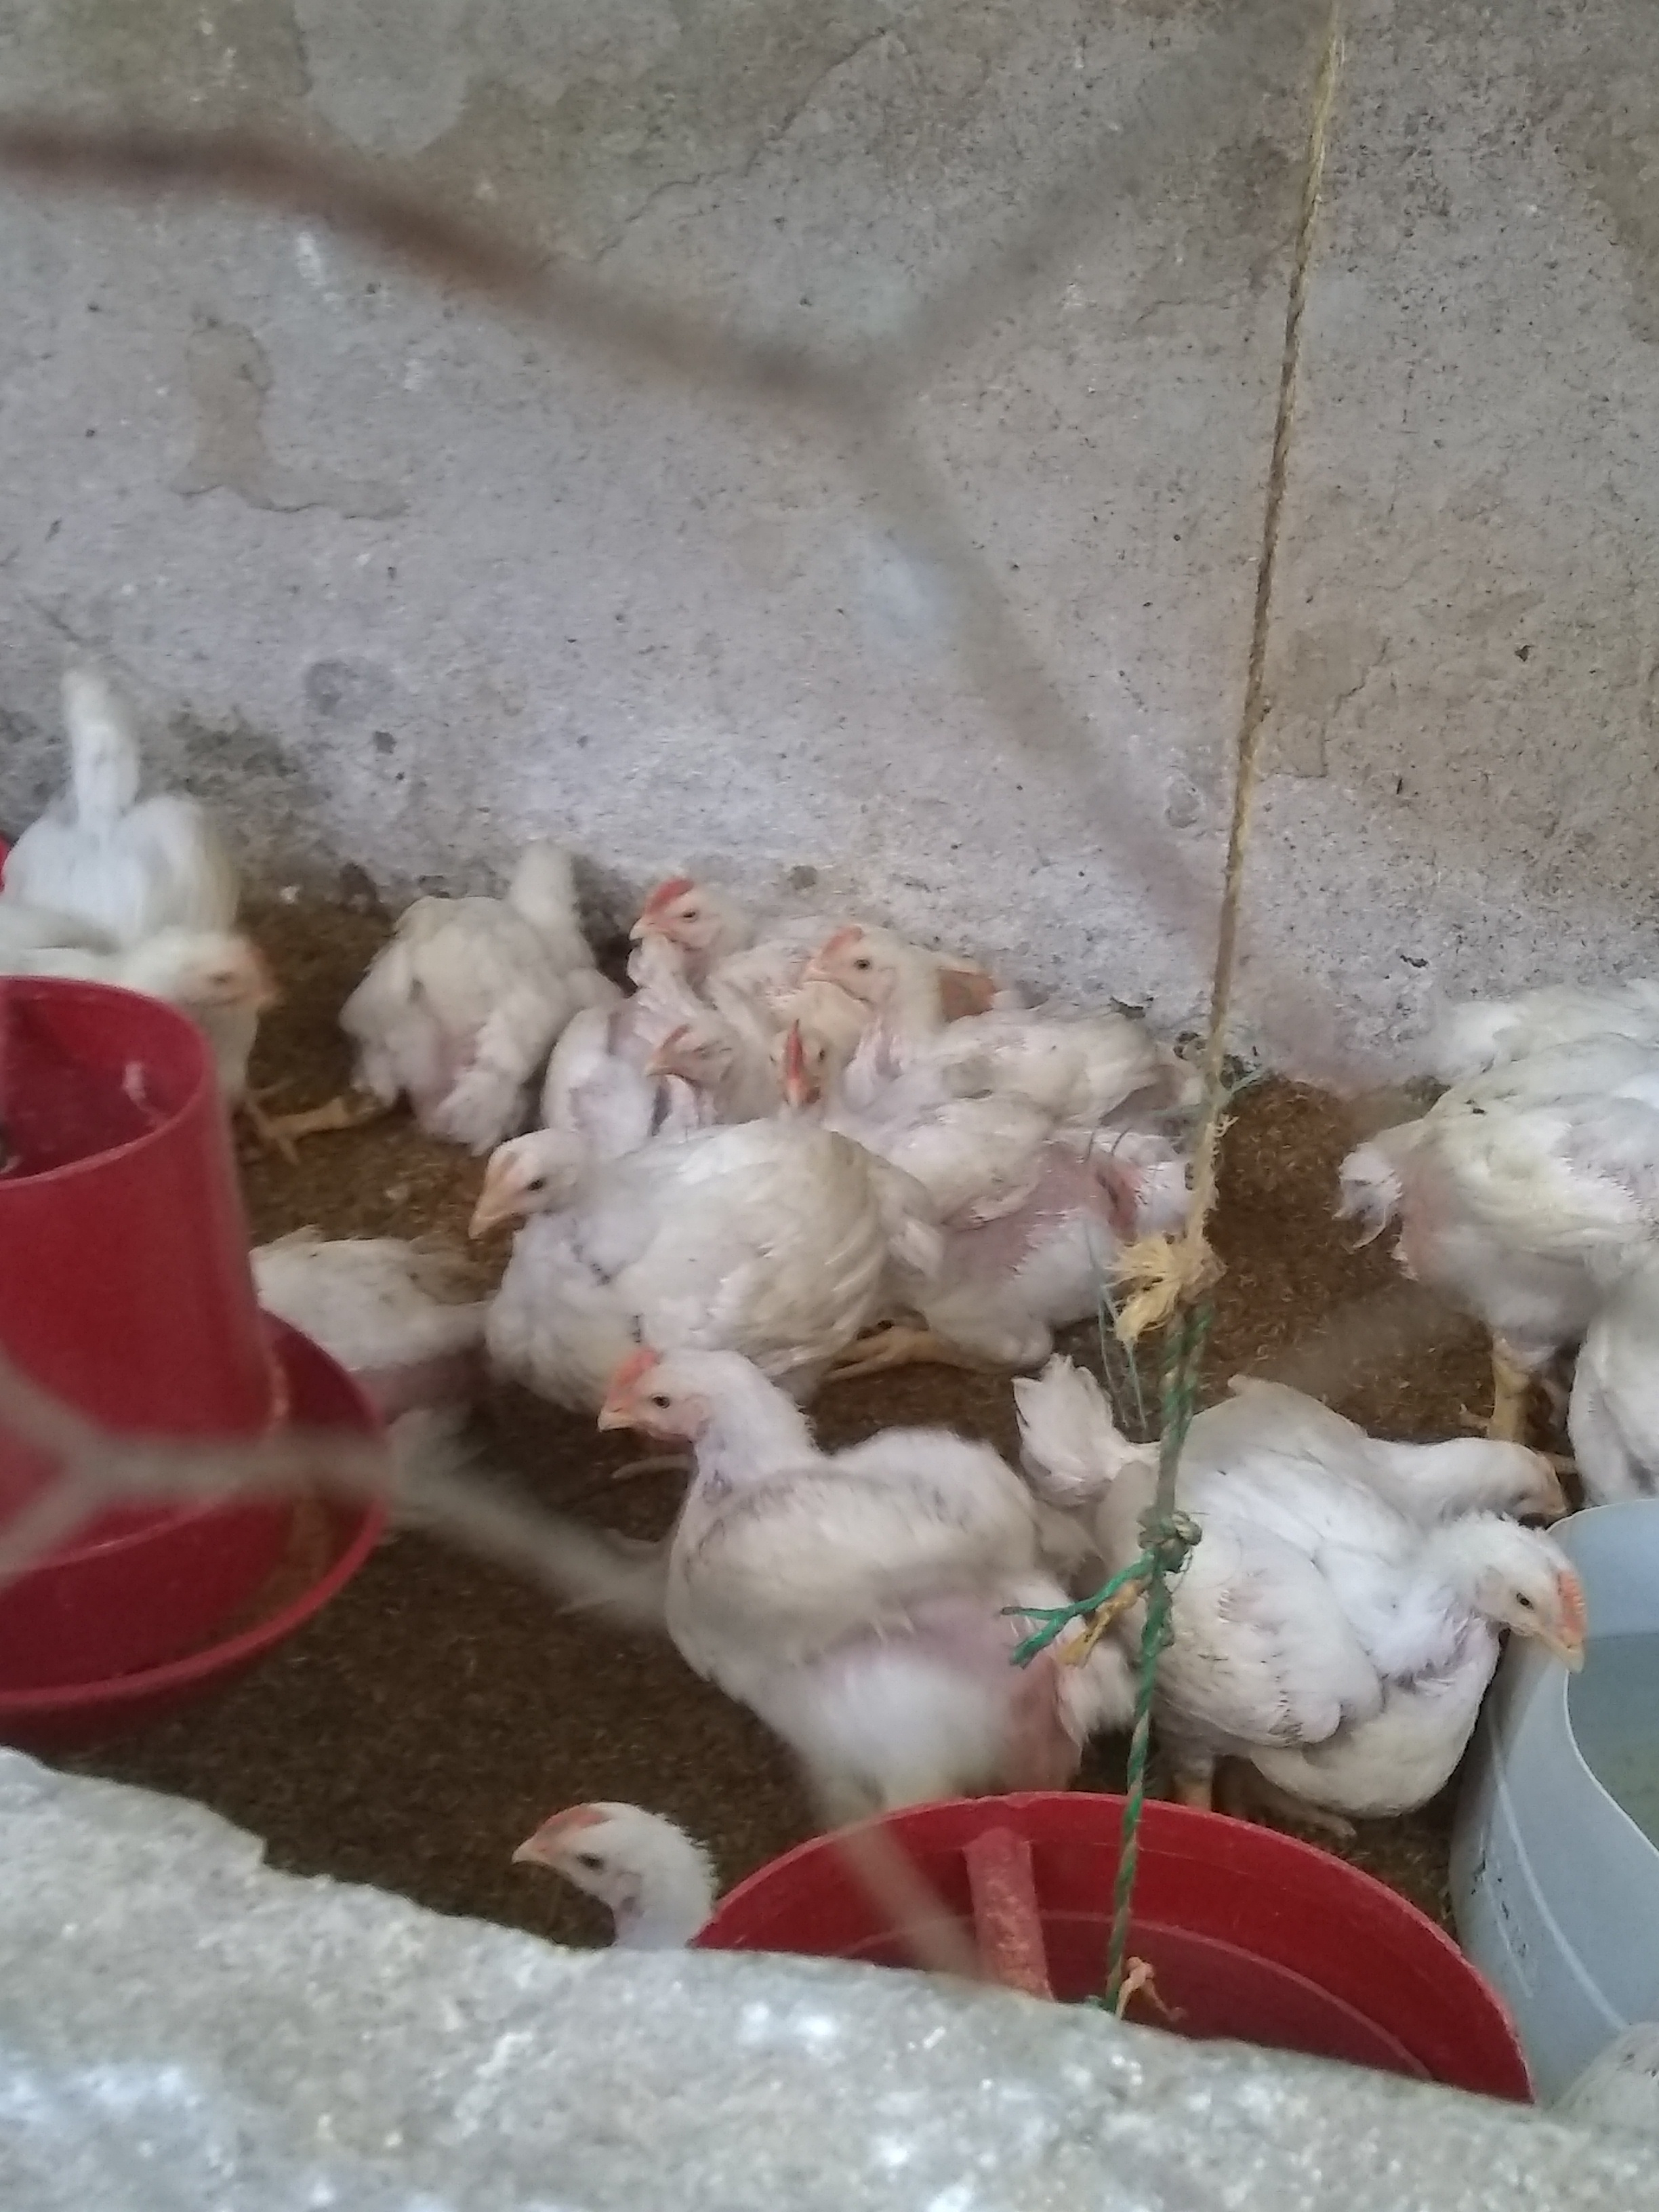Pollos: (598, 1336, 1112, 1818), (1121, 1521, 1567, 1829), (0, 641, 277, 1120), (242, 829, 579, 1155), (833, 1092, 1204, 1385), (471, 1127, 870, 1392), (1331, 1089, 1659, 1360), (1121, 1372, 1554, 1517), (772, 1015, 1107, 1172), (831, 920, 1145, 1082), (460, 1780, 732, 1959), (532, 946, 680, 1115), (664, 977, 777, 1169), (633, 871, 819, 961)
